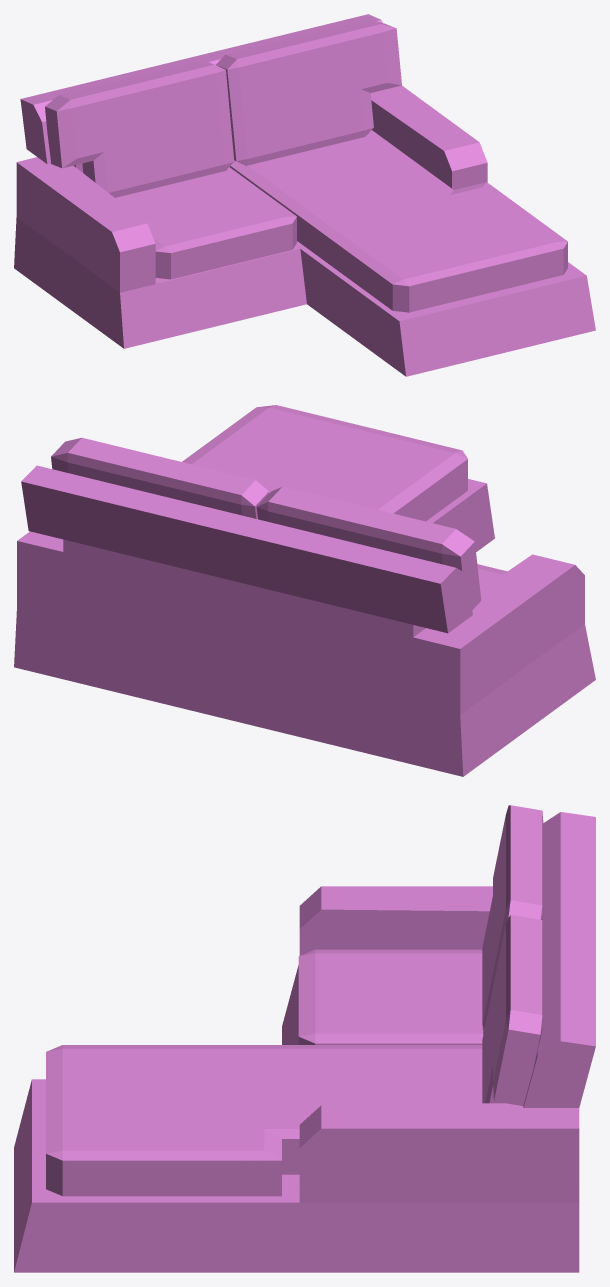
The model's file is SofaLong.glb.
3 views of the same model, one above another, from view 1: azimuth 30°, elevation 25°; view 2: azimuth 150°, elevation 25°; view 3: azimuth 270°, elevation 25° (orthographic). The views are drawn at different scales.
Parts seen in each view (by area): view 1: SofaLong; view 2: SofaLong; view 3: SofaLong.
Boxes of the visible parts, bbox=[...] form: SofaLong: bbox=[14, 14, 595, 376]; SofaLong: bbox=[14, 405, 595, 776]; SofaLong: bbox=[14, 805, 595, 1272].
Size of the model in its own units: 1.36 by 0.6276 by 1.37.
